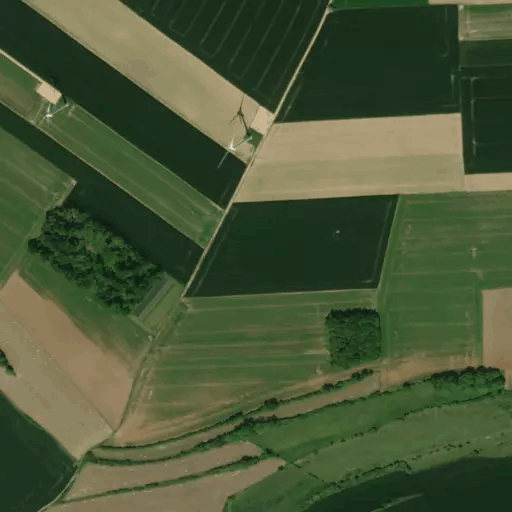wt: (213, 89, 265, 174), (35, 71, 81, 132)
